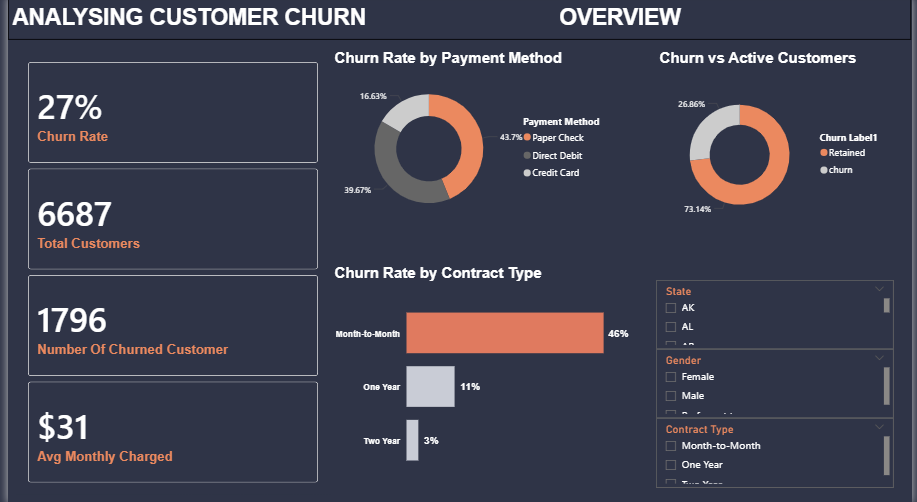

Layout of this report page (visuals, bound fields, positions):
{"tool":"powerbi","page":{"name":"Excutive Overview","canvas":[1280,720],"ordinal":0},"visuals":[{"type":"textbox","box":[0,0,1279.8,62.4],"z":0},{"type":"barChart","fields":{"Category":["Databel - Data.Contract Type"],"Y":["dashboard measures.Churn Rate"]},"box":[457.1,381.4,427.1,315.7],"z":1000},{"type":"donutChart","title":"Churn vs Active Customers","fields":{"Category":["Databel - Data.Churn Label1"],"Y":["CountNonNull(Databel - Data.Customer ID)"]},"box":[918.6,77.1,337.1,272.9],"z":2000},{"type":"cardVisual","fields":{"Data":["dashboard measures.Churn Rate","dashboard measures.Total Customers","dashboard measures.Number Of Churned Customer","dashboard measures.Avg Monthly Charged"]},"box":[11.4,77.1,445.7,630],"z":3000},{"type":"donutChart","fields":{"Category":["Databel - Data.Payment Method"],"Y":["dashboard measures.Churn Rate"]},"box":[457.1,77.1,401.4,255.7],"z":4000},{"type":"slicer","fields":{"Values":["Databel - Data.State"]},"box":[918.4,402.5,337.3,97.8],"z":5000},{"type":"slicer","fields":{"Values":["Databel - Data.Gender"]},"box":[918.4,500.3,337.3,97.8],"z":6000},{"type":"slicer","fields":{"Values":["Databel - Data.Contract Type"]},"box":[918.4,598.1,337.3,99.2],"z":7000}]}

Visuals, with their boxes in screenshot pixels (x1, y1, x2, y2), scaled from the page's 1280x720 canvas onto the 917x502 screenshot:
textbox: <box>0,0,916,44</box>
barChart - Databel - Data.Contract Type x dashboard measures.Churn Rate: <box>327,266,633,486</box>
"Churn vs Active Customers" donutChart: <box>658,54,900,244</box>
cardVisual - dashboard measures.Churn Rate x dashboard measures.Total Customers: <box>8,54,327,493</box>
donutChart - Databel - Data.Payment Method x dashboard measures.Churn Rate: <box>327,54,615,232</box>
slicer - Databel - Data.State: <box>658,281,900,349</box>
slicer - Databel - Data.Gender: <box>658,349,900,417</box>
slicer - Databel - Data.Contract Type: <box>658,417,900,486</box>
